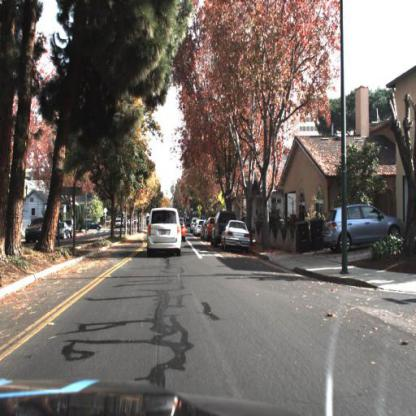car: (326, 203, 409, 259), (140, 204, 191, 259), (221, 219, 255, 258), (211, 209, 232, 249), (24, 214, 48, 243), (210, 212, 224, 246), (84, 217, 105, 235)
pedestrian: (300, 204, 309, 222)
